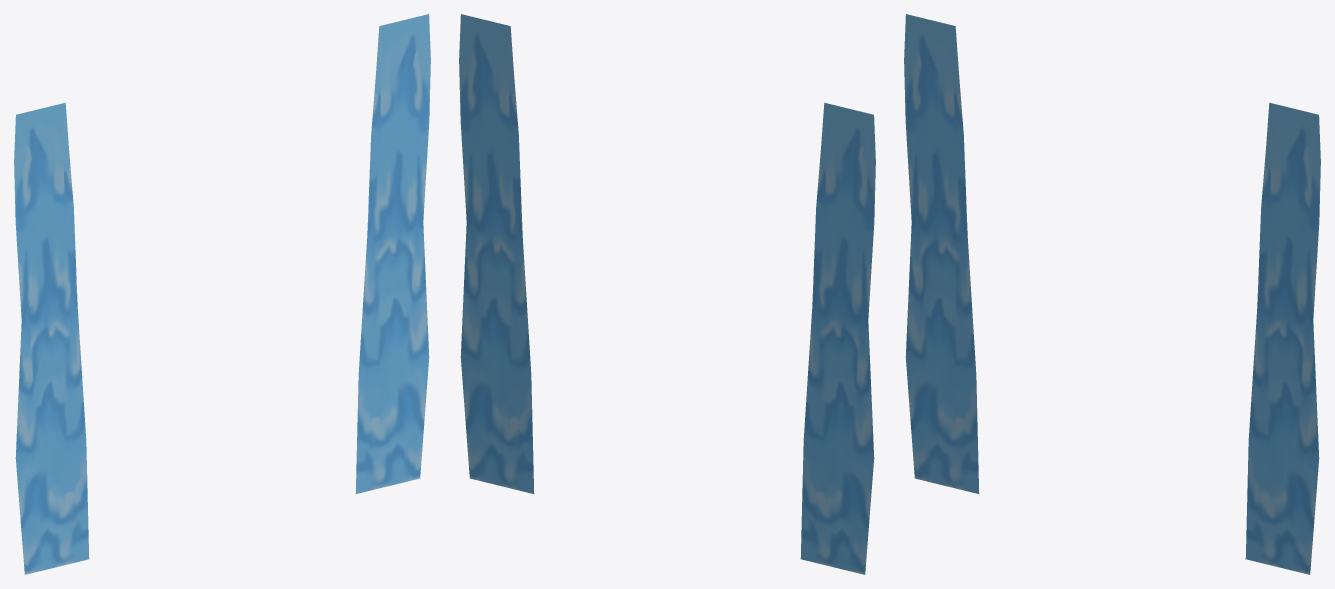
The model's file is thac.fbx.
The picture shows the model from 3 angles, left to right: view 1: azimuth 30°, elevation 25°; view 2: azimuth 150°, elevation 25°; view 3: azimuth 330°, elevation 25°; orthographic projection.
Parts seen in each view (by area): view 1: pPlane34; view 2: pPlane34; view 3: pPlane34.
Part boxes in pixels (x1,y1,x2,y2): pPlane34: (14, 14, 430, 574); pPlane34: (459, 14, 875, 574); pPlane34: (904, 14, 1320, 574).
Size of the model in its own units: 57.28 by 60.71 by 6.1e-05.
